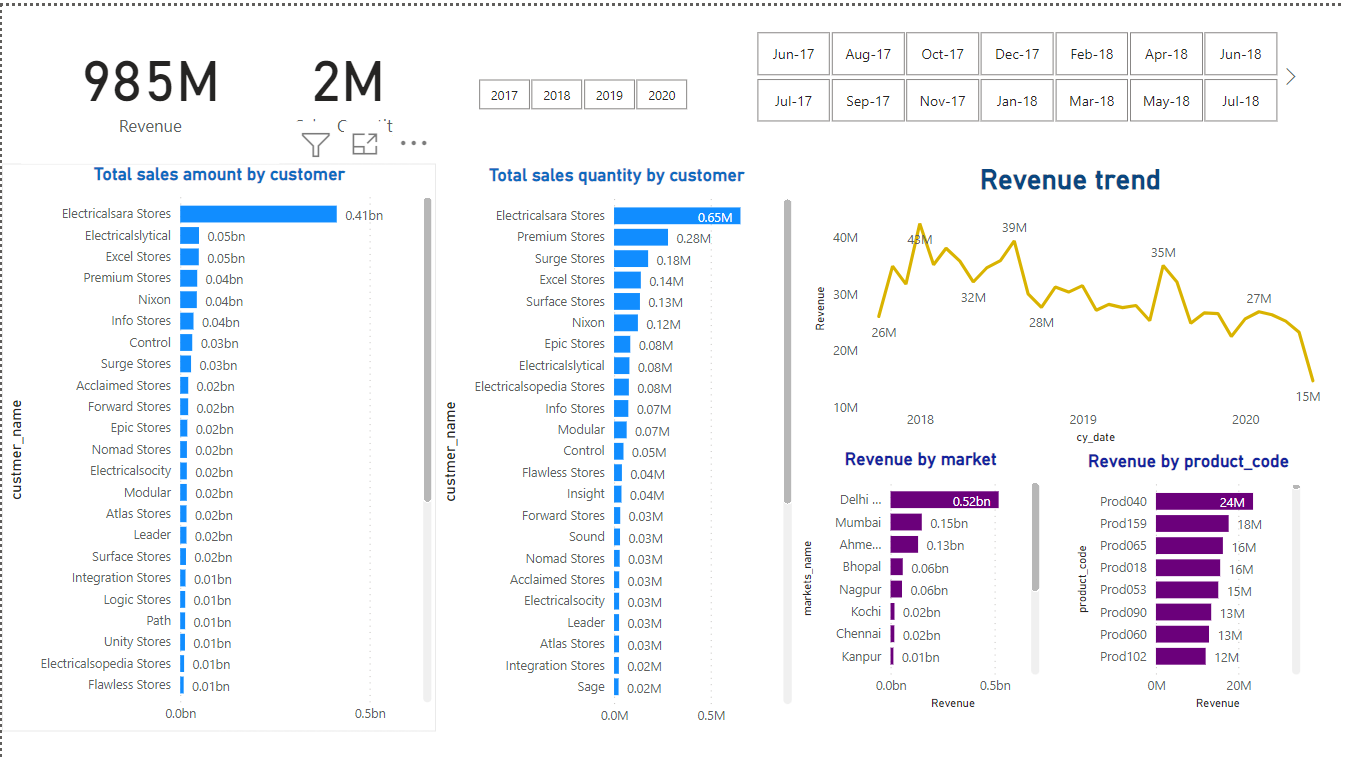

Layout of this report page (visuals, bound fields, positions):
{"tool":"powerbi","page":{"name":"Page 1","canvas":[1280,720],"ordinal":0},"visuals":[{"type":"card","fields":{"Values":["BaseMeasures.total_sales_qty"]},"box":[245.7,18.6,168.6,114.3],"z":0},{"type":"barChart","title":"Total sales amount by customer","fields":{"Y":["BaseMeasures.total_sales_amount"],"Category":["sales customers.custmer_name"]},"box":[0,150,414,542],"z":2000},{"type":"barChart","title":"Total sales quantity by customer","fields":{"Y":["BaseMeasures.total_sales_qty"],"Category":["sales customers.custmer_name"]},"box":[414,152,344,542],"z":3000},{"type":"slicer","fields":{"Values":["sales date.year"]},"box":[428,64,248,42],"z":3001},{"type":"slicer","fields":{"Values":["sales date.cy_date"]},"box":[693.3,18.3,545,98.3],"z":3002},{"type":"barChart","title":"Revenue by market","fields":{"Y":["BaseMeasures.Revenue"],"Category":["sales markets.markets_name"]},"box":[756.7,421.7,236.7,253.3],"z":3004},{"type":"card","fields":{"Values":["BaseMeasures.Revenue"]},"box":[18.6,0,245.7,150],"z":3005},{"type":"barChart","fields":{"Y":["BaseMeasures.Revenue"],"Category":["sales products.product_code"]},"box":[1018.3,423.3,223.3,251.7],"z":3006},{"type":"lineChart","title":"Revenue trend","fields":{"Y":["BaseMeasures.Revenue"],"Category":["sales date.cy_date"]},"box":[768.3,150,498.3,271.7],"z":3007}]}

Visuals, with their boxes in screenshot pixels (x1, y1, x2, y2), scaled from the page's 1280x720 canvas onto the 1345x761 screenshot:
card - BaseMeasures.total_sales_qty: 258/20/435/140
"Total sales amount by customer" barChart: 0/159/435/731
"Total sales quantity by customer" barChart: 435/161/796/734
slicer - sales date.year: 450/68/710/112
slicer - sales date.cy_date: 729/19/1301/123
"Revenue by market" barChart: 795/446/1044/713
card - BaseMeasures.Revenue: 20/0/278/159
barChart - BaseMeasures.Revenue x sales products.product_code: 1070/447/1305/713
"Revenue trend" lineChart: 807/159/1331/446
